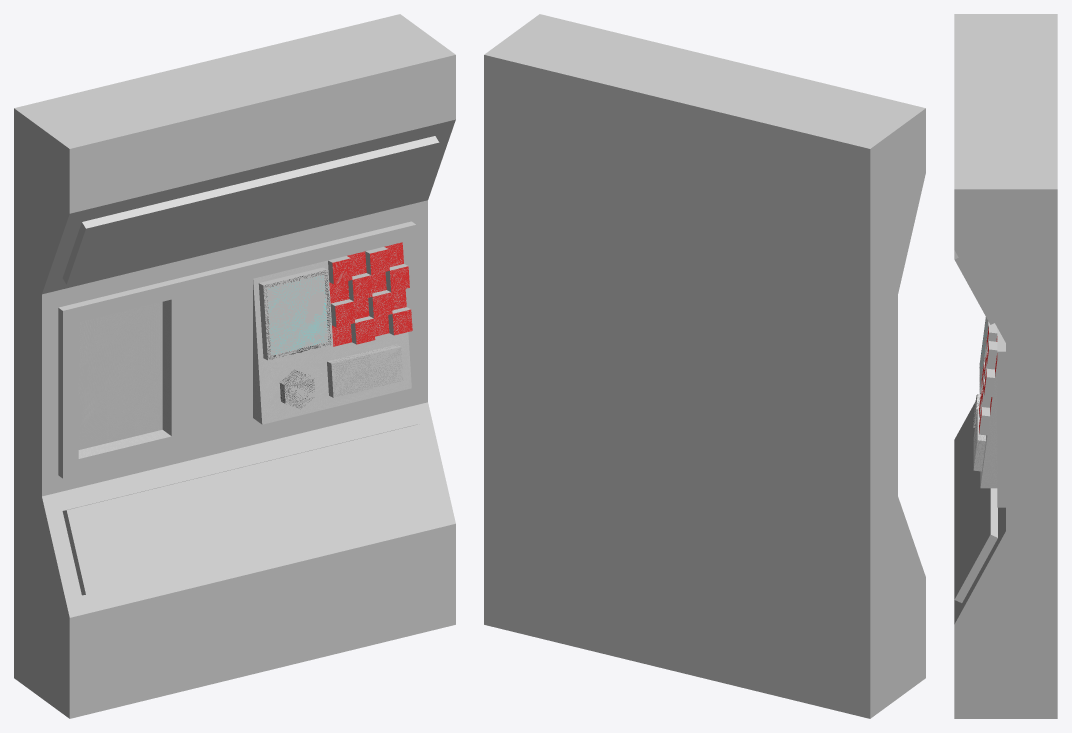
The model's file is scifi_wall_white_10.fbx.
3 views of the same model, side by side, from view 1: azimuth 30°, elevation 25°; view 2: azimuth 150°, elevation 25°; view 3: azimuth 270°, elevation 25° (orthographic). The views are drawn at different scales.
Visible parts, largest first — view 1: Model; view 2: Model; view 3: Model.
Part boxes in pixels (<box>): Model: <box>14,14,455,718</box>; Model: <box>484,14,925,718</box>; Model: <box>954,14,1057,718</box>.
Size of the model in its own units: 231 by 326 by 57.71.
